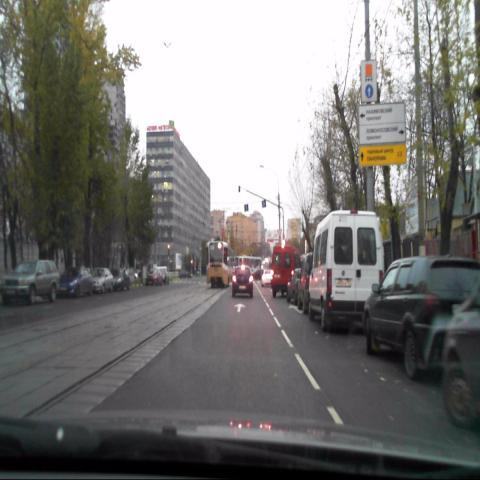4_8_2: (361, 60, 376, 103)
